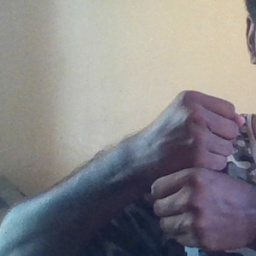G: (142, 82, 249, 252)
